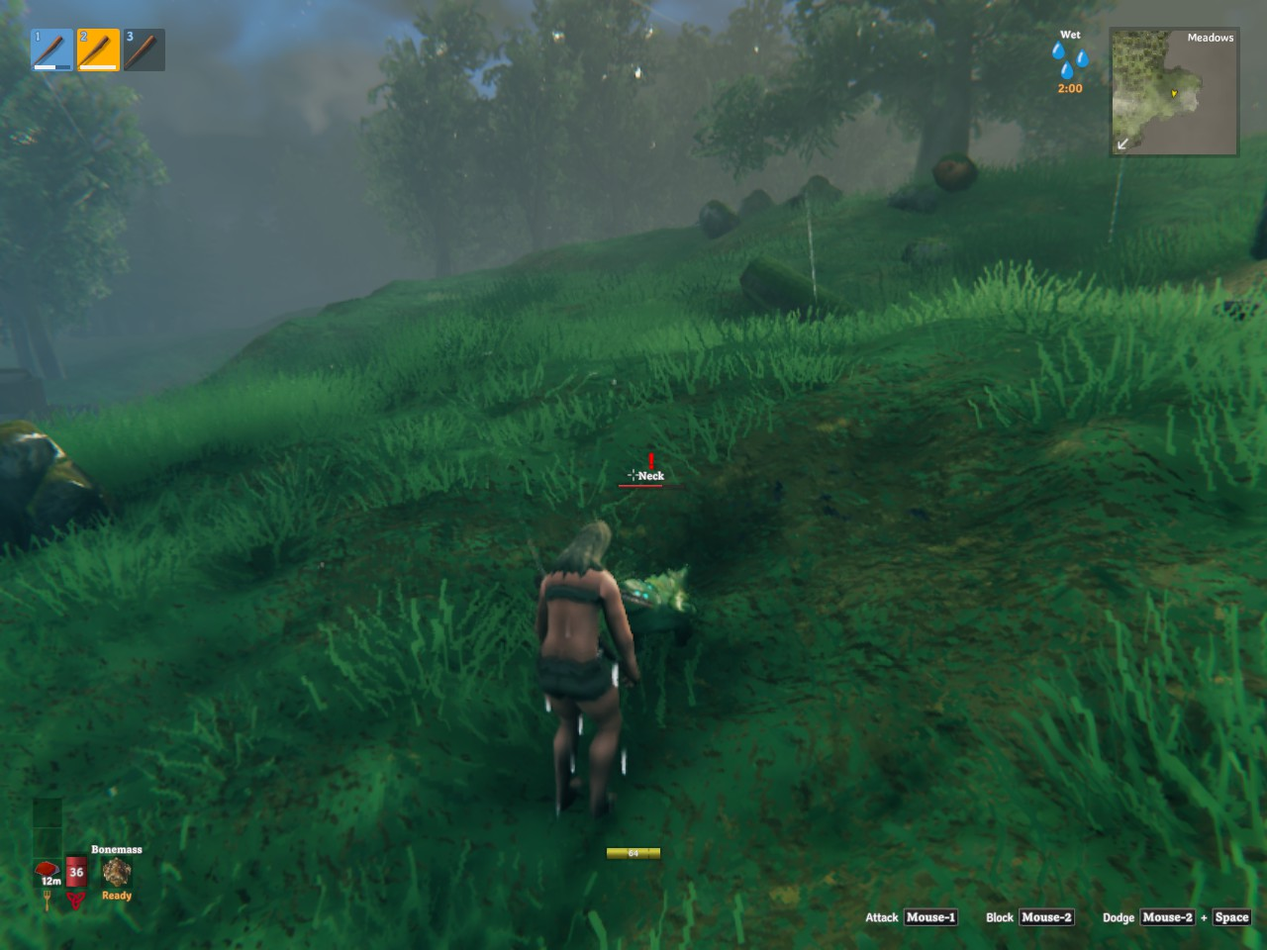Food Indicator: (36, 797, 63, 891)
Health Bar: (63, 820, 90, 891)
Hotbar: (24, 21, 195, 80)
Neck: (621, 566, 694, 634)
Stamina Bar: (600, 840, 669, 862)
Status Indicator: (1024, 22, 1111, 100)
